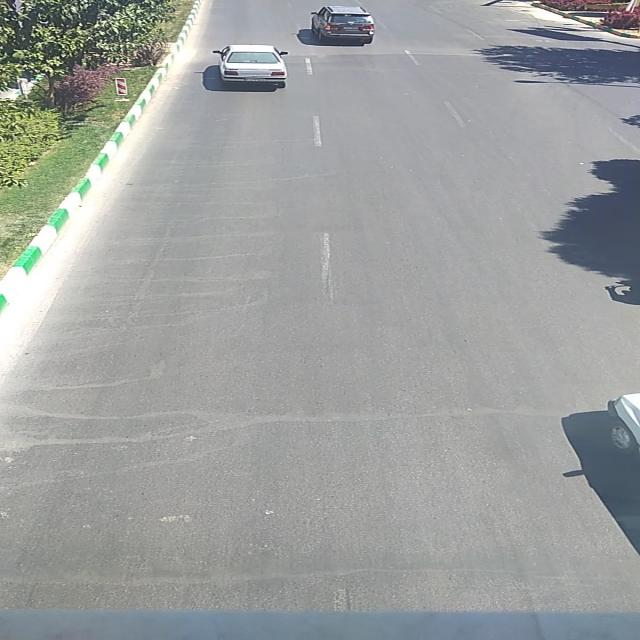car: (210, 44, 292, 86), (310, 6, 379, 45)
